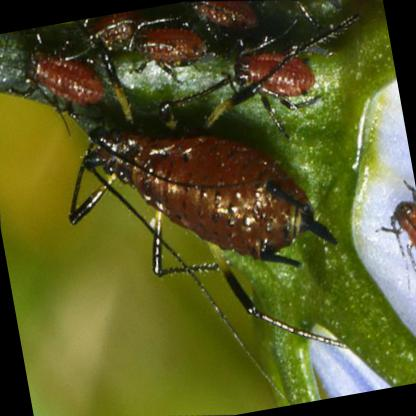uroleucon compositae: (68, 39, 349, 347)
